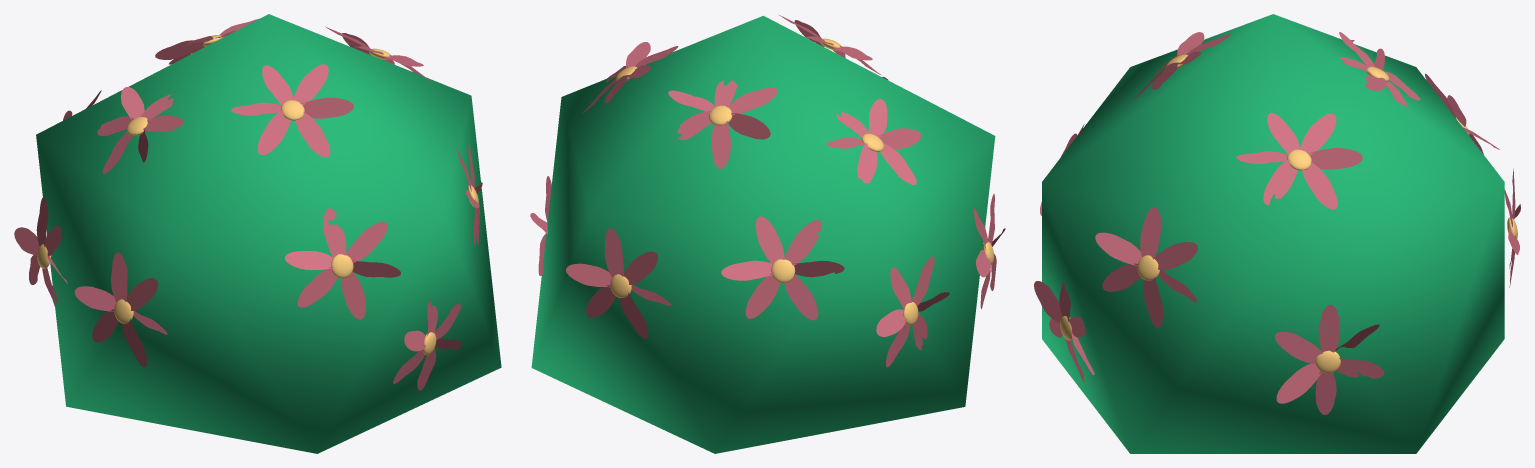
File: bloemenstruik.fbx
3 views of the same model, side by side, from view 1: azimuth 30°, elevation 25°; view 2: azimuth 150°, elevation 25°; view 3: azimuth 270°, elevation 25° (orthographic). The views are drawn at different scales.
Parts seen in each view (by area): view 1: Icosphere.004, Circle.112, Circle.002, Circle.109, Circle.110, Circle.005, Circle.006, Circle.113, Circle.004, Circle.045, Circle.001, Circle.048 (+10 smaller); view 2: Icosphere.004, Circle.056, Circle.055, Circle.059, Circle.060, Circle.058, Circle.033, Circle.054, Circle.050, Circle.036, Circle.051, Circle.035 (+12 smaller); view 3: Icosphere.004, Circle.016, Circle.028, Circle.009, Circle.025, Circle.013, Circle.012, Circle.014, Circle.029, Circle.026, Circle.011, Circle.017 (+6 smaller).
Boxes of the visible parts, <box> form: Icosphere.004: <box>36,14,501,453</box>; Circle.112: <box>301,97,353,118</box>; Circle.002: <box>346,221,387,262</box>; Circle.109: <box>295,112,330,157</box>; Circle.110: <box>257,111,290,155</box>; Circle.005: <box>297,266,337,307</box>; Circle.006: <box>341,270,365,319</box>; Circle.113: <box>293,64,328,105</box>; Circle.004: <box>285,251,332,270</box>; Circle.045: <box>74,286,116,311</box>; Circle.001: <box>323,208,346,258</box>; Circle.048: <box>111,252,127,302</box>; Icosphere.004: <box>531,15,995,453</box>; Circle.056: <box>784,220,821,265</box>; Circle.055: <box>755,216,784,265</box>; Circle.059: <box>745,273,780,318</box>; Circle.060: <box>784,274,818,320</box>; Circle.058: <box>721,260,772,280</box>; Circle.033: <box>566,263,611,287</box>; Circle.054: <box>711,121,730,168</box>; Circle.050: <box>728,87,777,114</box>; Circle.036: <box>604,228,623,277</box>; Circle.051: <box>728,113,770,139</box>; Circle.035: <box>623,251,657,284</box>; Icosphere.004: <box>1042,14,1504,453</box>; Circle.016: <box>1276,363,1322,403</box>; Circle.028: <box>1308,148,1362,169</box>; Circle.009: <box>1095,232,1141,266</box>; Circle.025: <box>1302,162,1337,209</box>; Circle.013: <box>1275,331,1322,364</box>; Circle.012: <box>1140,207,1161,259</box>; Circle.014: <box>1318,304,1339,352</box>; Circle.029: <box>1300,113,1336,154</box>; Circle.026: <box>1263,160,1297,205</box>; Circle.011: <box>1154,242,1197,270</box>; Circle.017: <box>1315,370,1336,414</box>.
Bounding box in the file's own units: 107 × 86.4 × 106.
